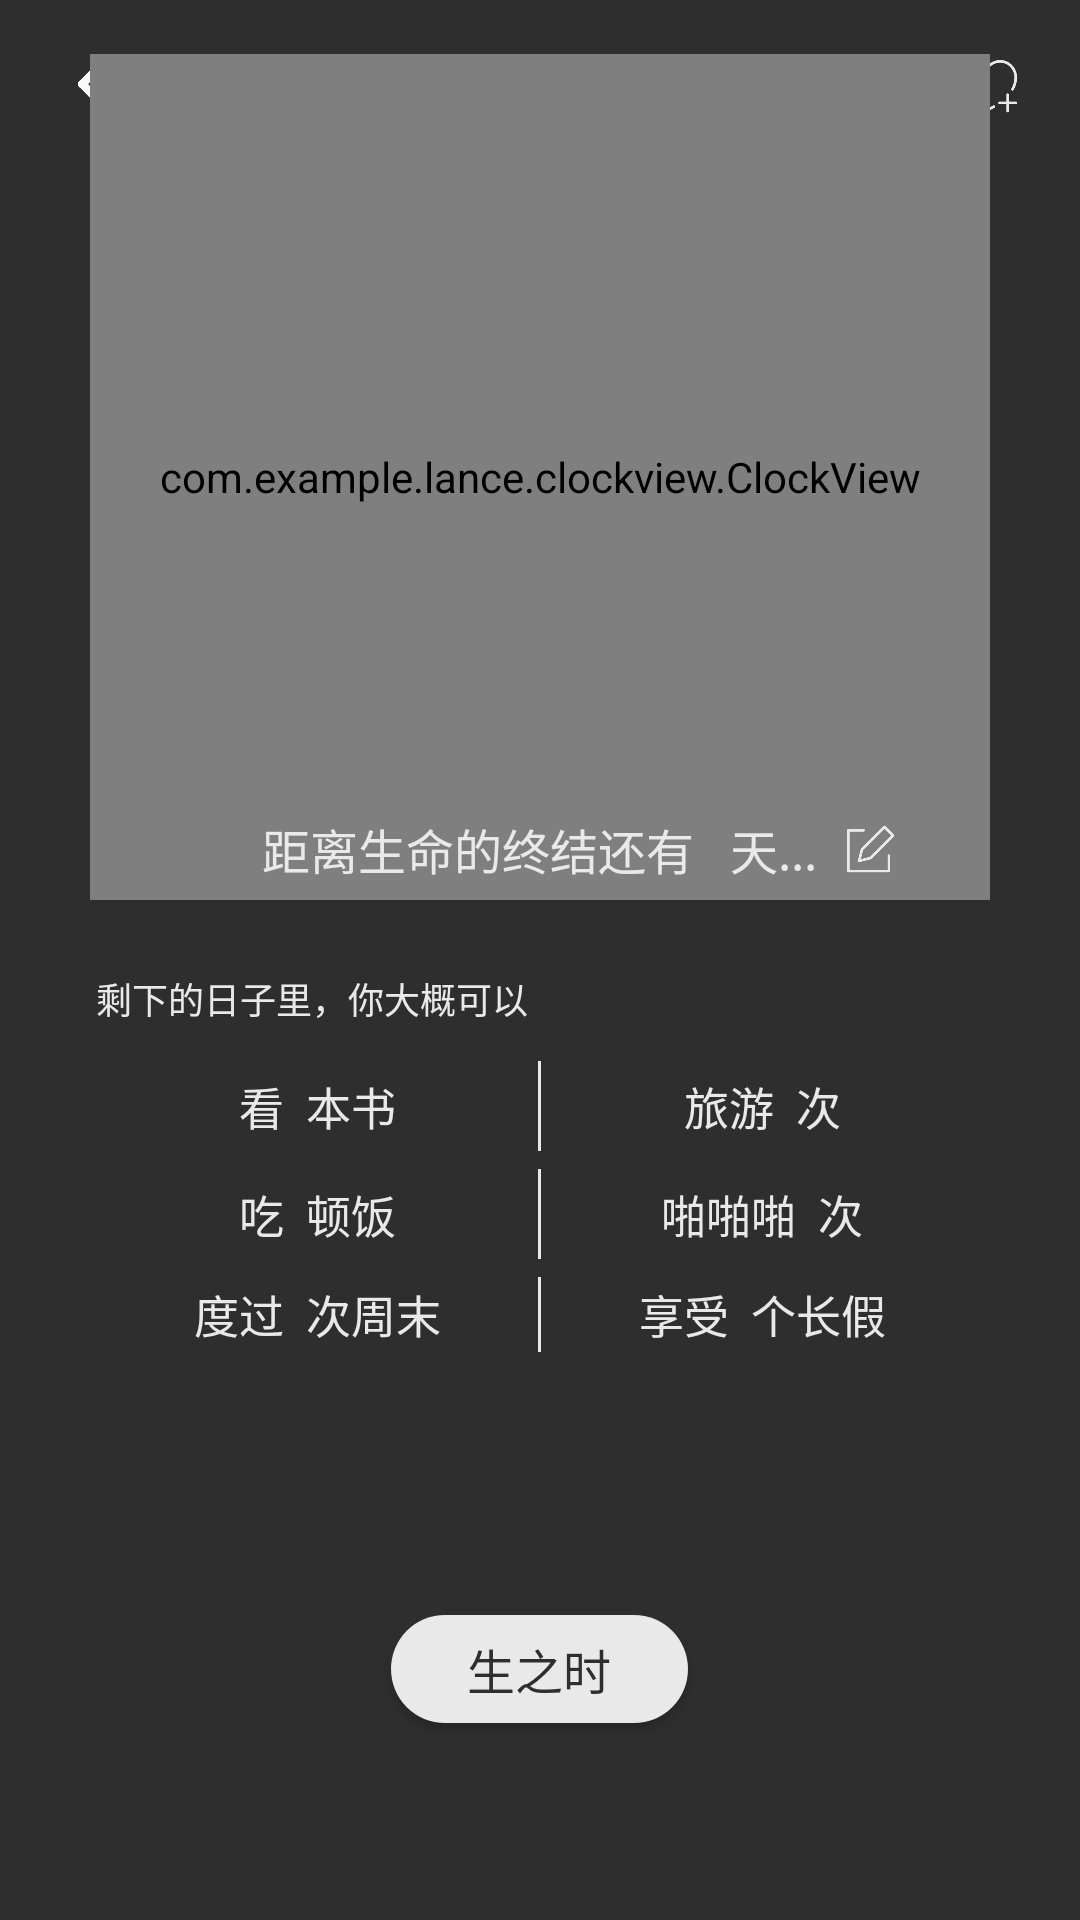

Screen size 1080px×1920px. Icon name, then its box in pixels as [x1=x1, y1=y1, x2=x2, y2=y2]:
live edit: [x1=847, y1=826, x2=894, y2=872]
